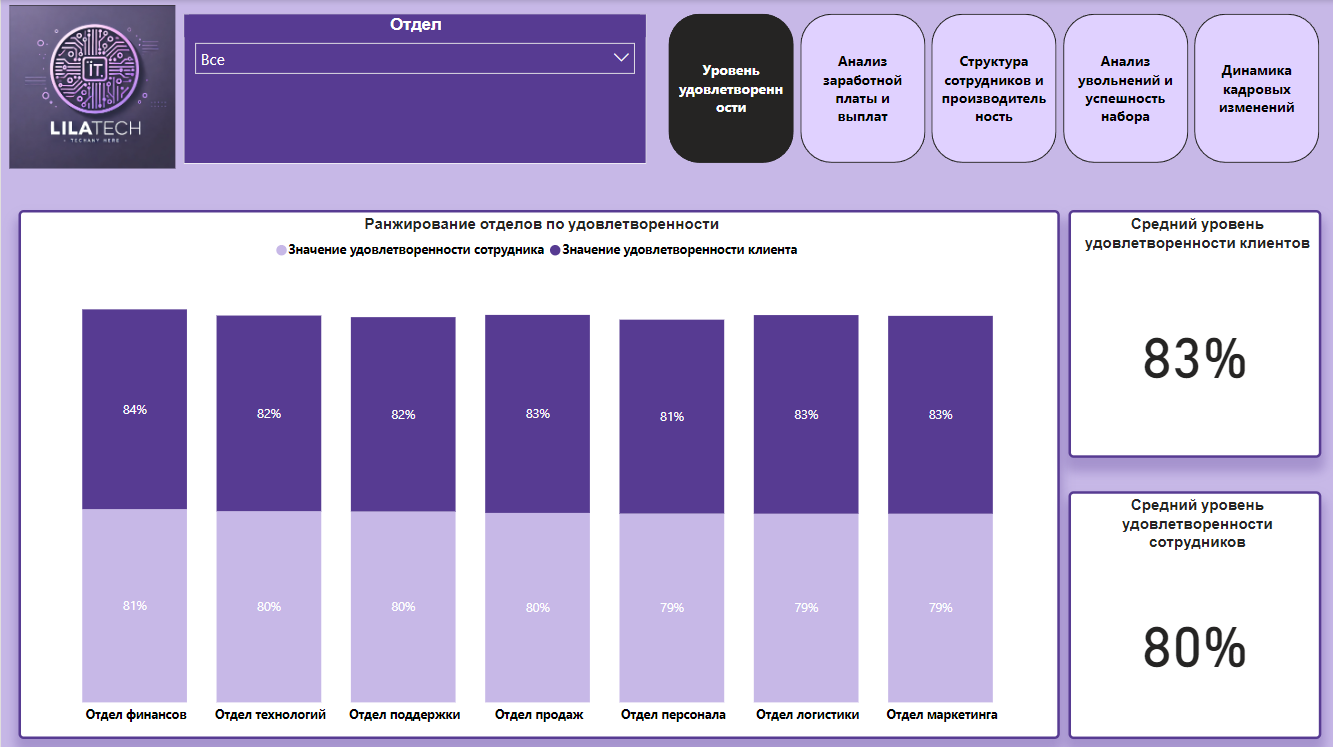

Layout of this report page (visuals, bound fields, positions):
{"tool":"powerbi","page":{"name":"Уровень удовлетворенности","canvas":[1280,720],"ordinal":0},"visuals":[{"type":"pageNavigator","box":[640,13.8,626.2,143.8],"z":0},{"type":"columnChart","title":"Ранжирование отделов по удовлетворенности","fields":{"Category":["Satisf.Dept"],"Y":["Avg(Satisf.AveragePersonalSatisf)","Avg(Satisf.AverageCustomerSatisf)"]},"box":[16.2,201.2,998.8,507.5],"z":1000},{"type":"card","title":"Средний уровень удовлетворенности клиентов","fields":{"Values":["Avg(Satisf.AverageCustomerSatisf)"]},"box":[1023.8,201.2,242.5,237.5],"z":2000},{"type":"card","title":"Средний уровень удовлетворенности сотрудников","fields":{"Values":["Avg(Satisf.AveragePersonalSatisf)"]},"box":[1023.8,471.2,242.5,237.5],"z":3000},{"type":"image","box":[0,0,175,166.2],"z":4000},{"type":"slicer","title":"Отдел","fields":{"Values":["Satisf.Dept"]},"box":[175,13.8,443.8,143.8],"z":6000}]}

Visuals, with their boxes in screenshot pixels (x1, y1, x2, y2), scaled from the page's 1280x720 canvas onto the 1333x747 screenshot:
pageNavigator: (666, 14, 1319, 164)
"Ранжирование отделов по удовлетворенности" columnChart: (17, 209, 1057, 735)
"Средний уровень удовлетворенности клиентов" card: (1066, 209, 1319, 455)
"Средний уровень удовлетворенности сотрудников" card: (1066, 489, 1319, 735)
image: (0, 0, 182, 172)
"Отдел" slicer: (182, 14, 644, 164)
